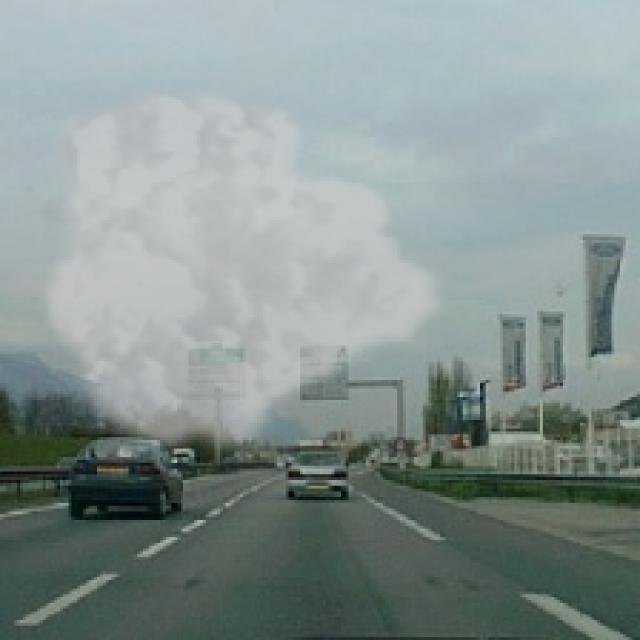smoke: (37, 80, 452, 463)
